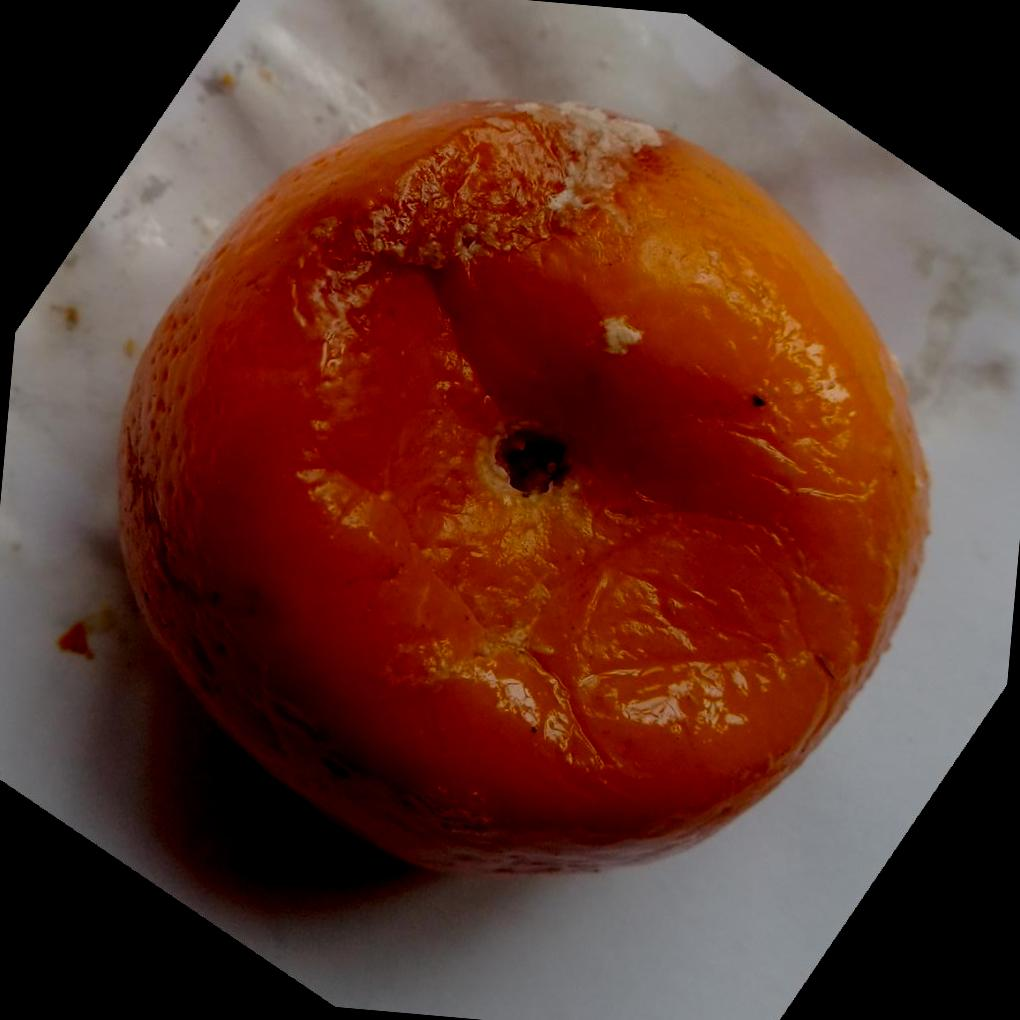FreshOrange: (111, 95, 927, 876)
